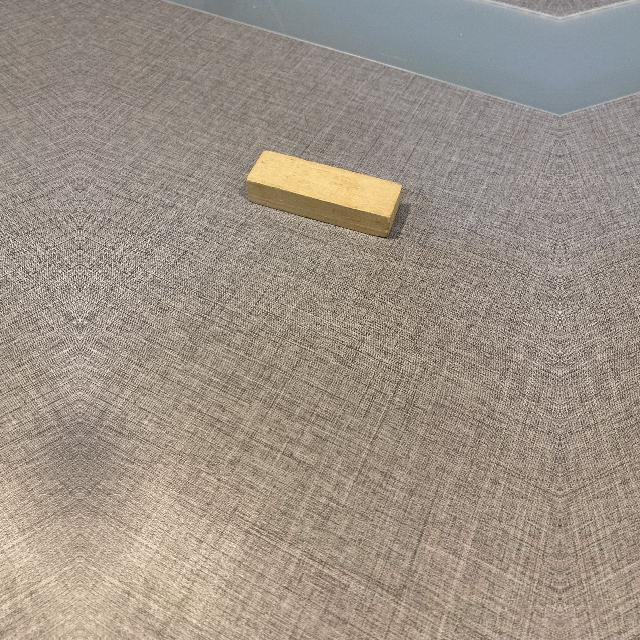jenga: (244, 151, 403, 241)
